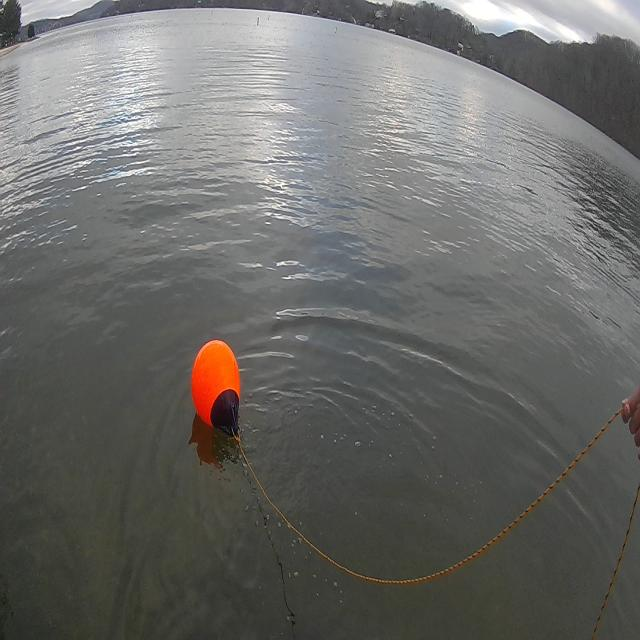Buoy: (188, 331, 246, 447)
